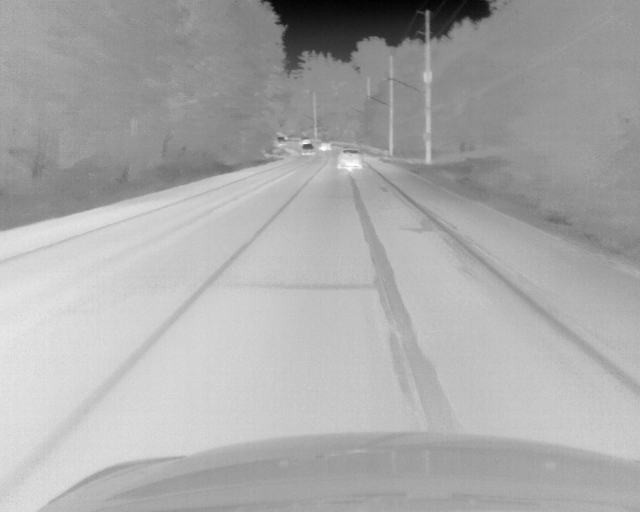car: (337, 147, 362, 172), (299, 138, 313, 156), (317, 141, 332, 152), (273, 135, 286, 147)
